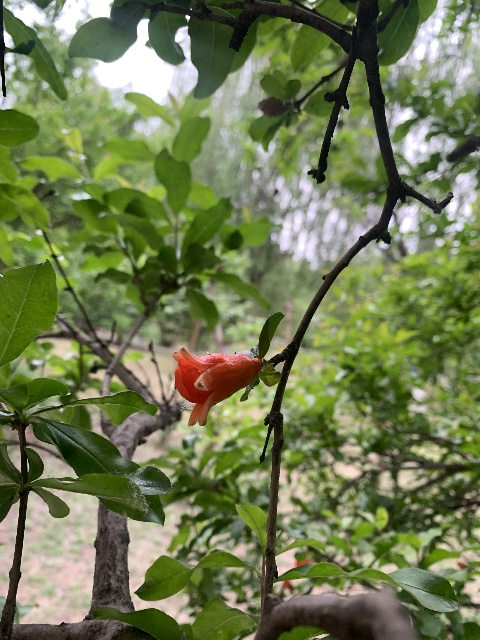flower: (172, 347, 261, 426)
